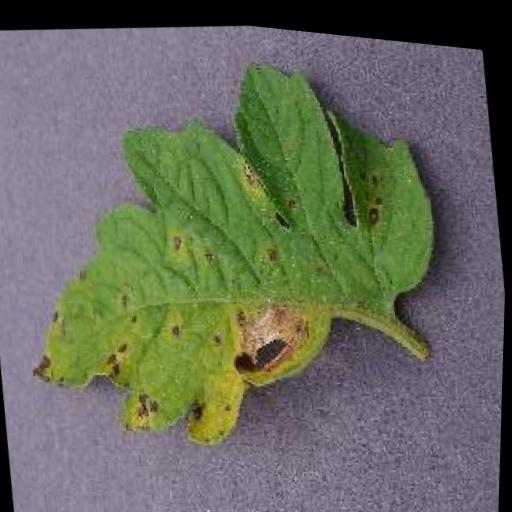Septoria: (0, 21, 463, 479)
